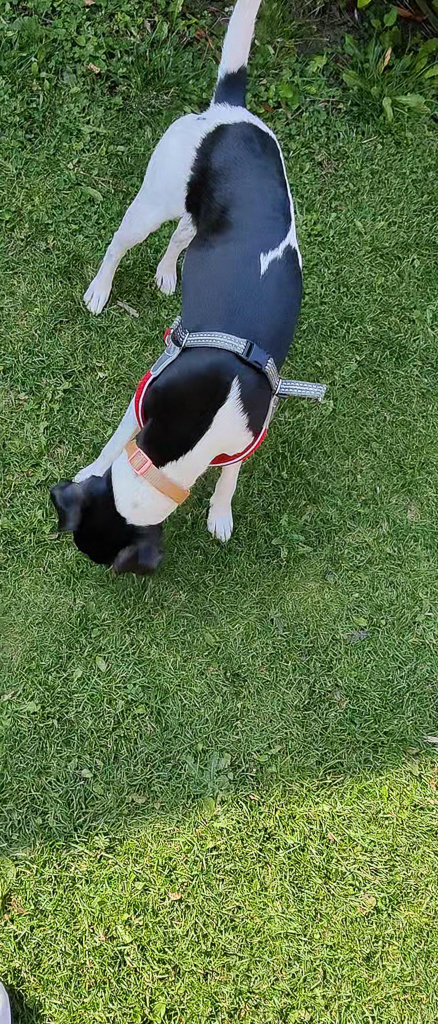Dog: (32, 0, 341, 594)
Humanoid: (0, 971, 20, 1024)
